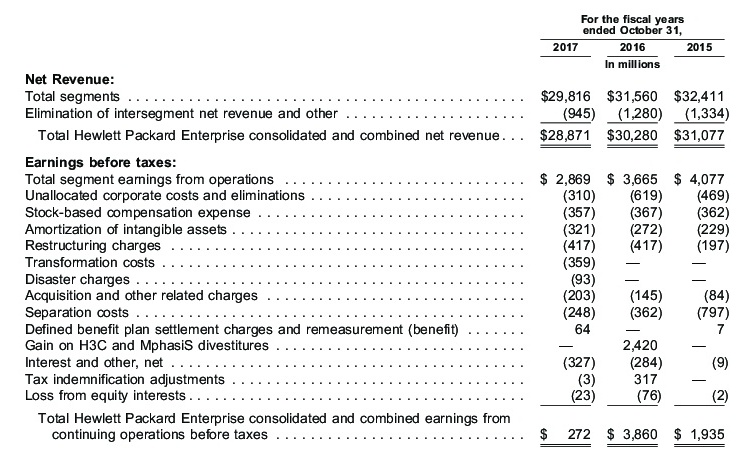table: (0, 0, 753, 472)
